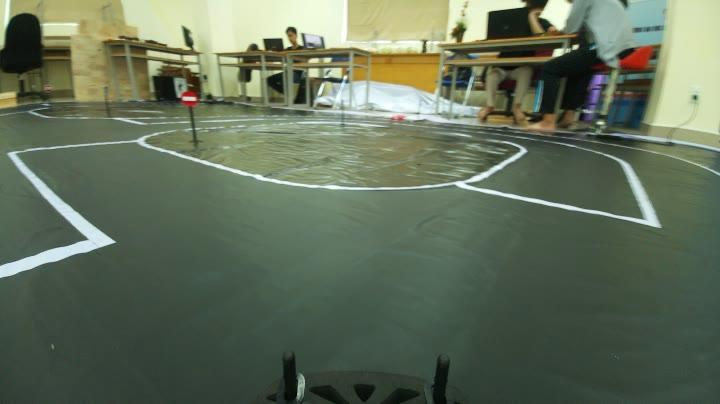no_entry: (171, 88, 206, 111)
